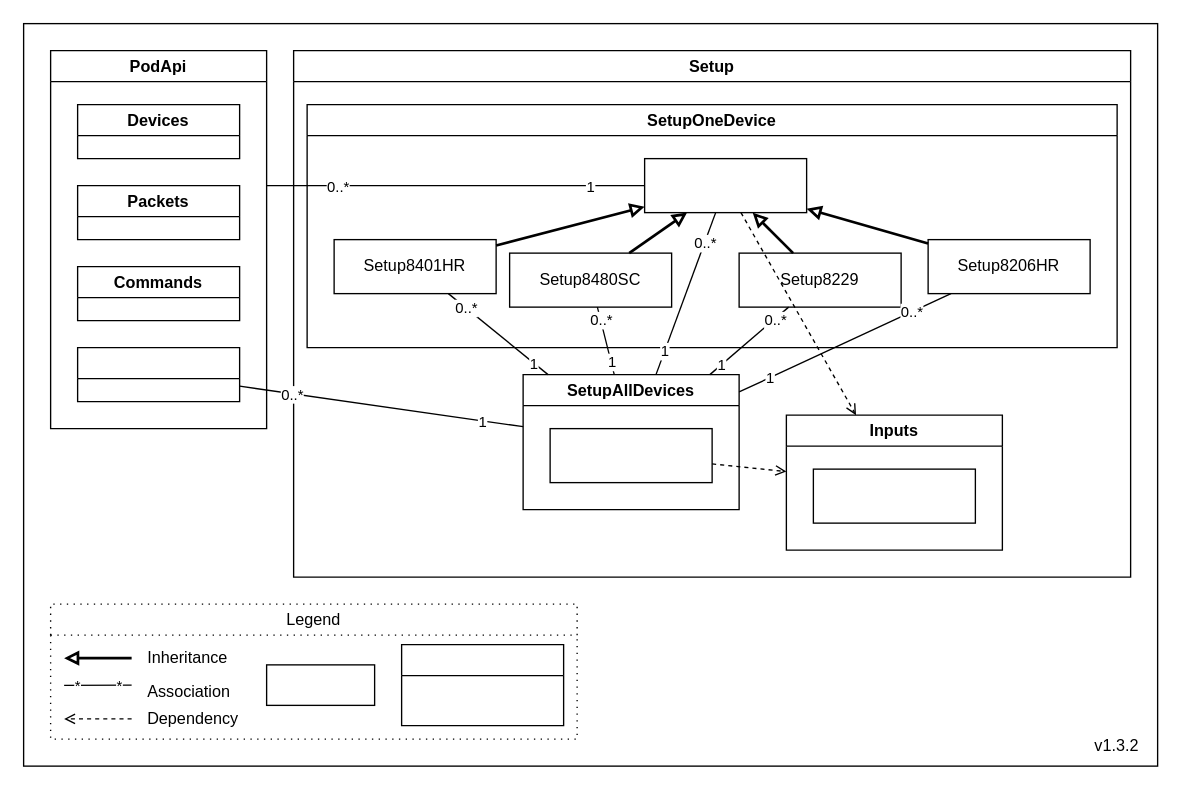
The diagram is 1181 pixels wide and 790 high, and some of its shapes have lost their labels. Each missing label, with the centre of its shape:
"Class" belongs at point 320,684.
"Package" belongs at point 482,684.
"Parameters" belongs at point 158,374.
"SetupAll" belongs at point 630,455.
"SetupInterface" belongs at point 725,185.
"UserInput" belongs at point 893,495.
